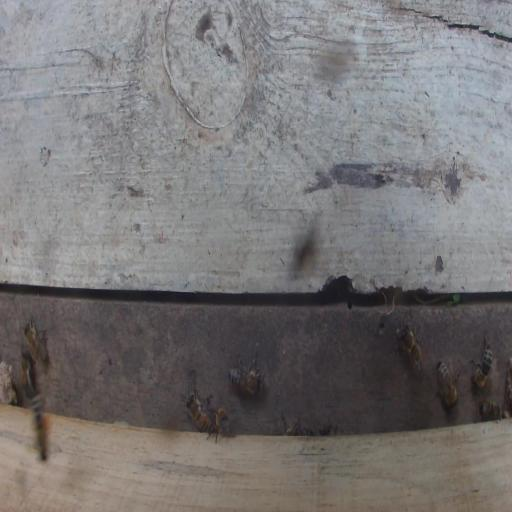bee: (28, 392, 53, 465), (394, 318, 423, 375), (435, 352, 462, 410), (229, 354, 266, 396), (468, 333, 492, 390), (185, 389, 215, 434), (24, 318, 48, 363), (212, 406, 234, 443), (20, 350, 35, 398), (478, 400, 501, 421)
